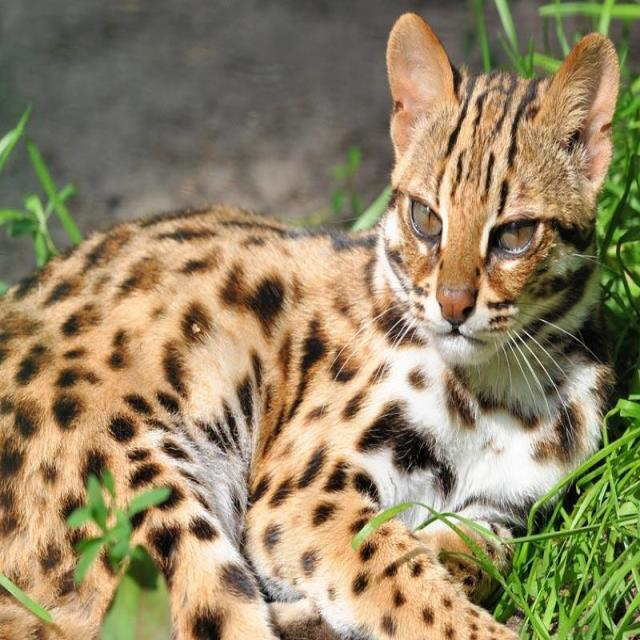leopard: (50, 268, 386, 588), (396, 27, 612, 510)
